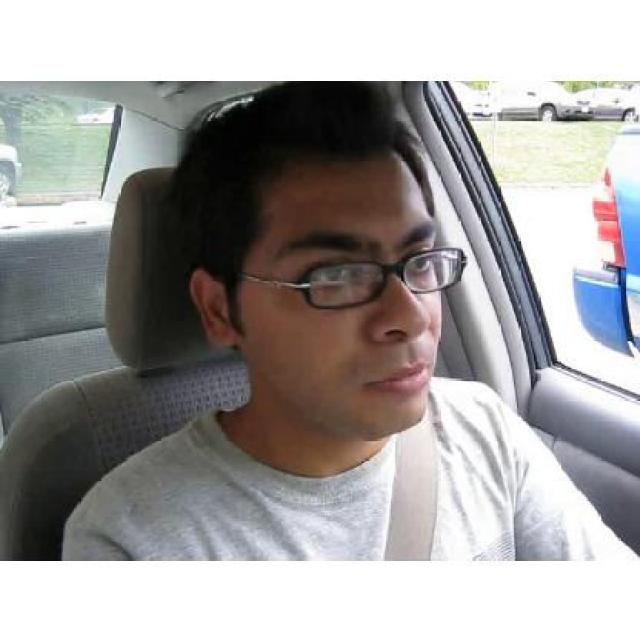attentif: (192, 81, 466, 438)
